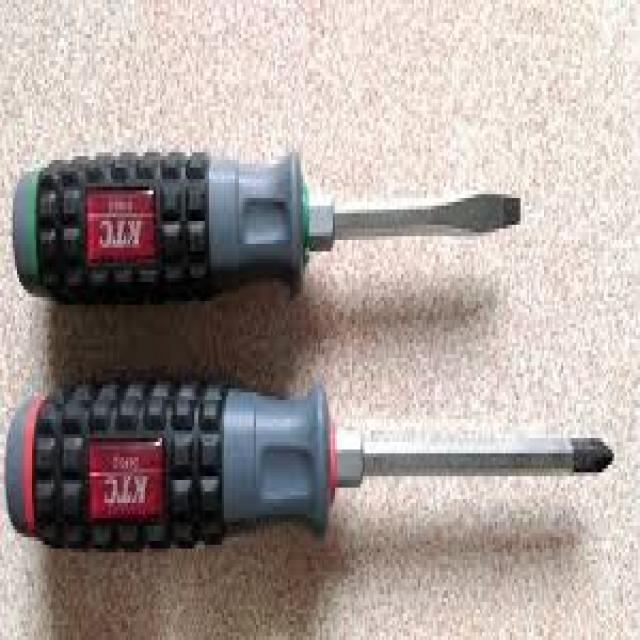screwdriver: (0, 377, 614, 548), (9, 146, 524, 306)
